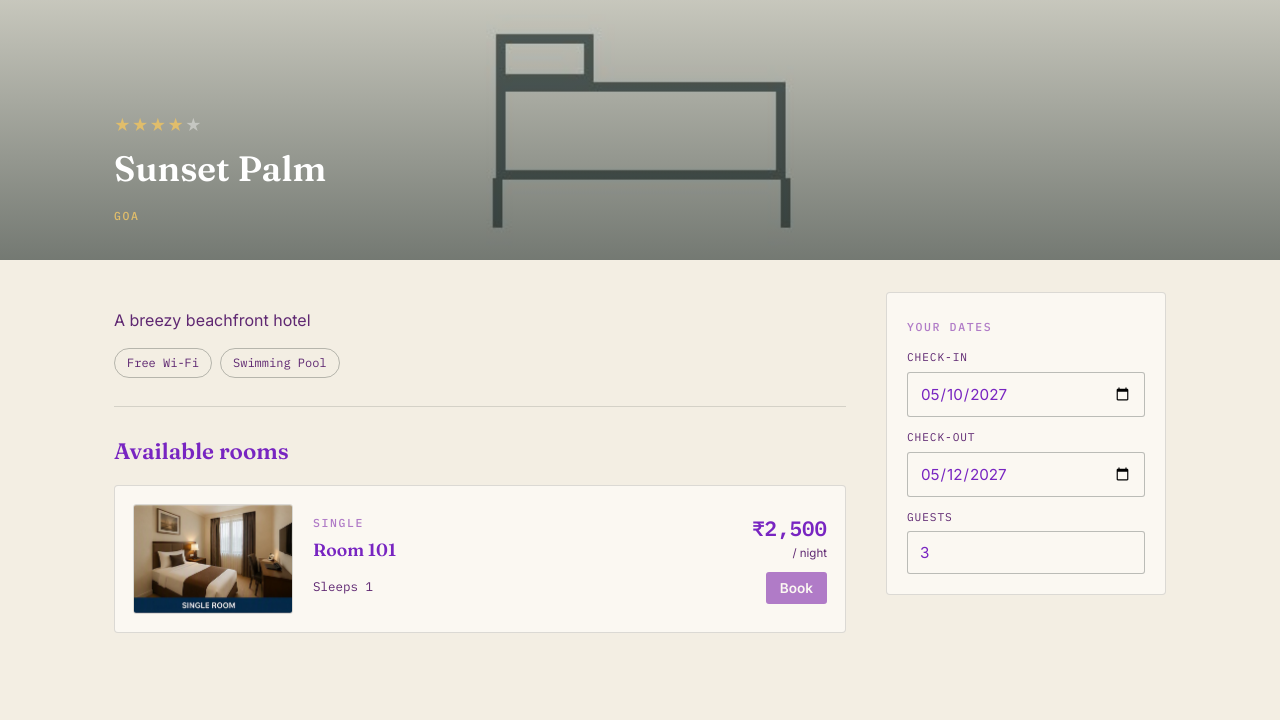
HotelDetail › rejects booking with a clear error when guests exceed the room's max occupancy
The image size is (1280, 720).
Expected: the heading "Room 101" is shown, [313,539,396,560]
Click the button "Book": (796, 588) [766,572,827,604]
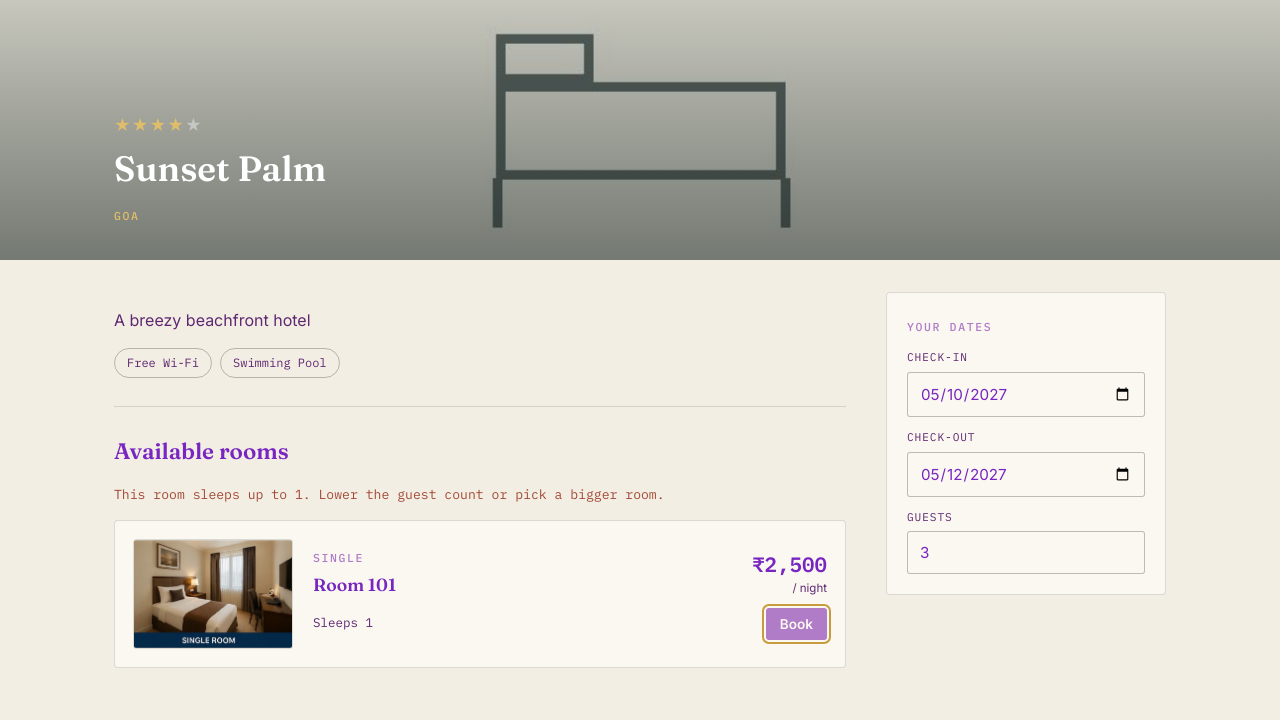
Result: the text "sleeps up to 1" is shown at [114,486,665,503]
